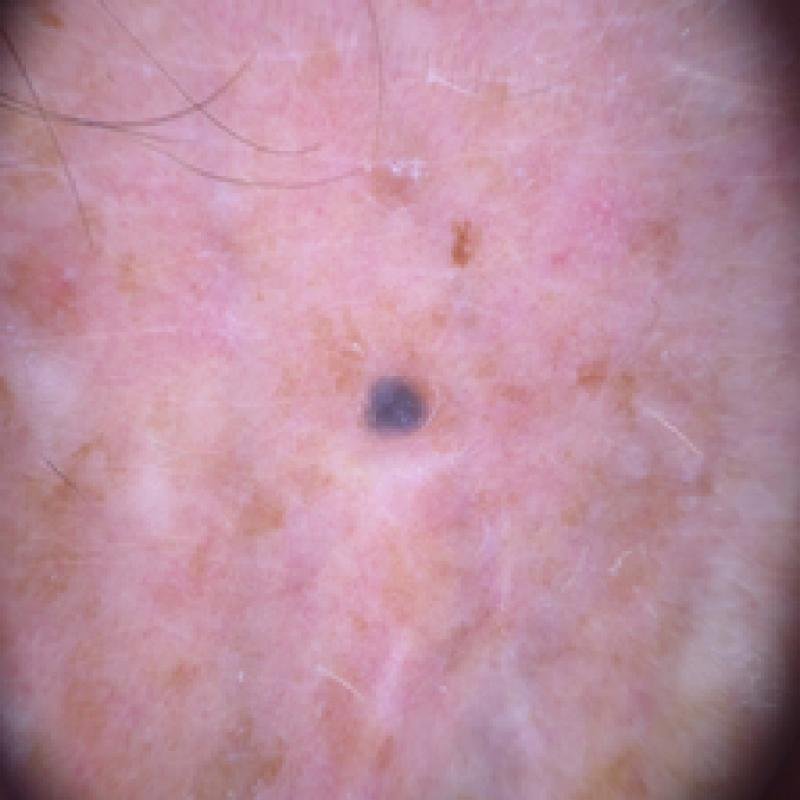benign: (288, 312, 486, 518)
